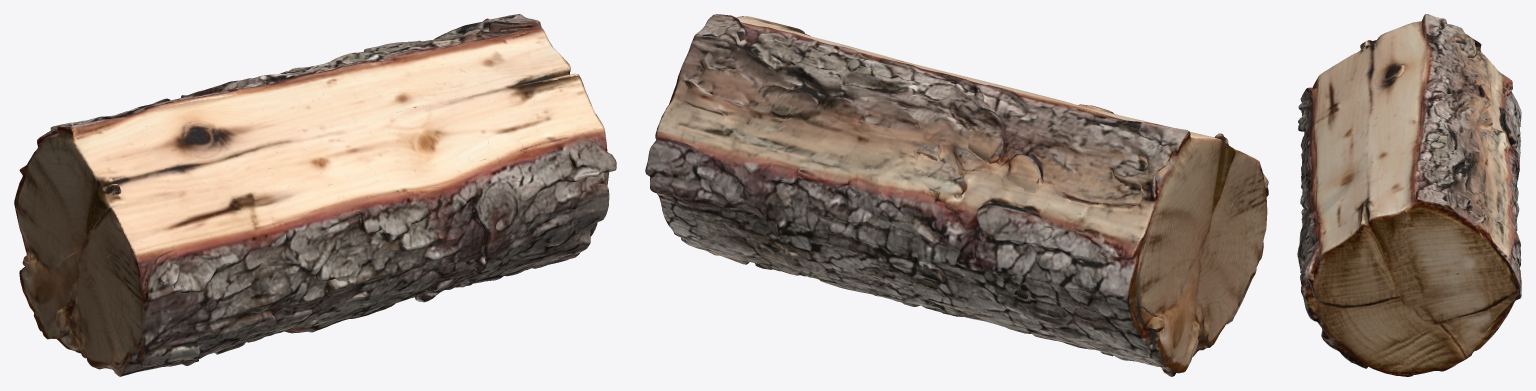
The model's file is wood-section-v8.glb.
The picture shows the model from 3 angles, left to right: view 1: azimuth 30°, elevation 25°; view 2: azimuth 150°, elevation 25°; view 3: azimuth 270°, elevation 25°; orthographic projection. The views are drawn at different scales.
Parts seen in each view (by area): view 1: geometry_0; view 2: geometry_0; view 3: geometry_0.
Boxes of the visible parts, box(x1,y1,x2,y2) form: geometry_0: box(14, 14, 616, 376); geometry_0: box(645, 14, 1268, 376); geometry_0: box(1297, 14, 1521, 376).
Size of the model in its own units: 0.5995 by 0.2749 by 0.299.
1 material, 1 textured.
